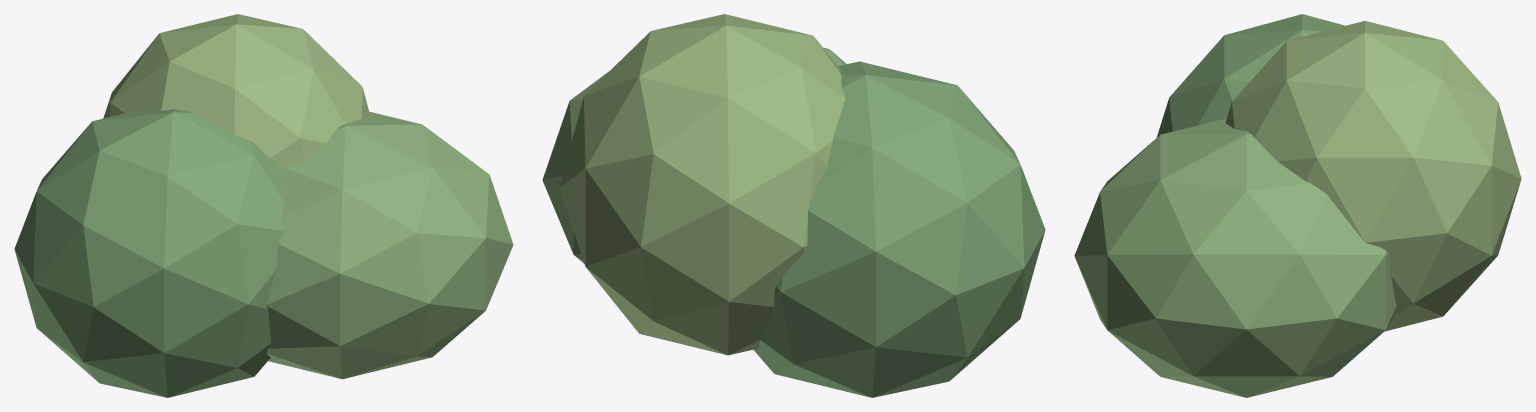
File: shrub.glb
The picture shows the model from 3 angles, left to right: view 1: azimuth 30°, elevation 25°; view 2: azimuth 150°, elevation 25°; view 3: azimuth 270°, elevation 25°; orthographic projection. The views are drawn at different scales.
Parts seen in each view (by area): view 1: shrub; view 2: shrub; view 3: shrub.
Part boxes in pixels (x1=…): shrub: x1=14, y1=14, x2=513, y2=397; shrub: x1=542, y1=14, x2=1045, y2=397; shrub: x1=1074, y1=14, x2=1521, y2=397.
Size of the model in its own units: 2.31 by 1.62 by 2.
